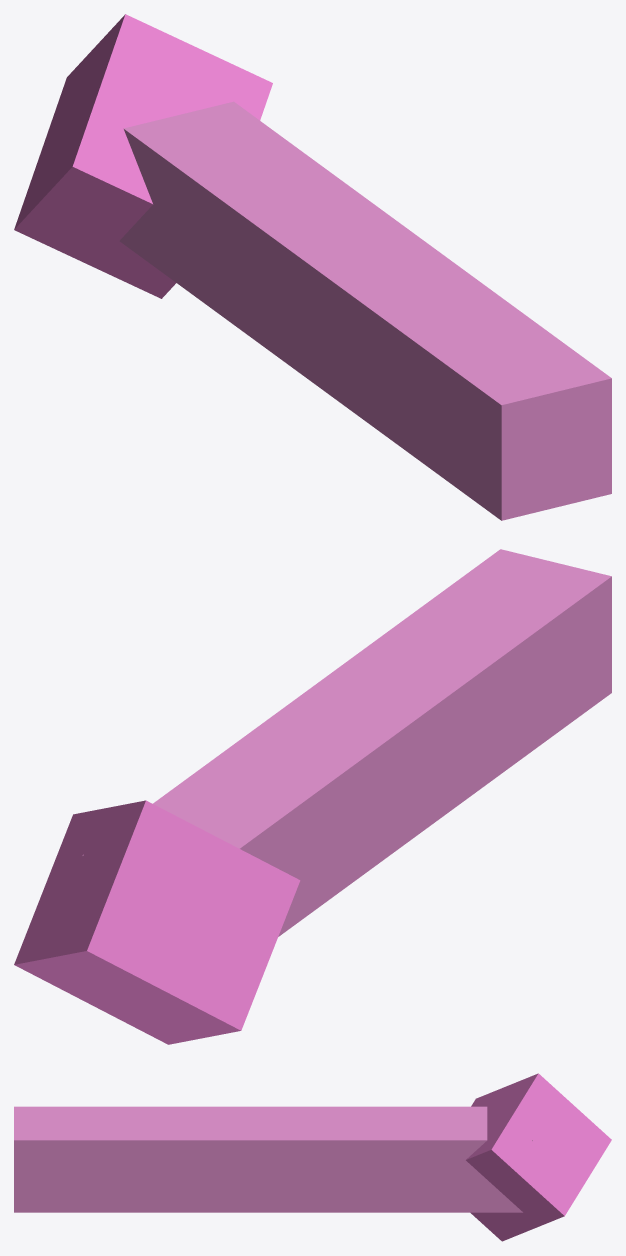
File: Tongue2.fbx
3 views of the same model, one above another, from view 1: azimuth 30°, elevation 25°; view 2: azimuth 150°, elevation 25°; view 3: azimuth 270°, elevation 25° (orthographic). The views are drawn at different scales.
Parts seen in each view (by area): view 1: cube_1, cube; view 2: cube_1, cube; view 3: cube_1, cube.
Boxes of the visible parts, bbox=[...] form: cube_1: bbox=[119, 101, 611, 520]; cube: bbox=[14, 14, 272, 298]; cube_1: bbox=[82, 549, 611, 936]; cube: bbox=[14, 800, 300, 1044]; cube_1: bbox=[14, 1106, 532, 1212]; cube: bbox=[466, 1073, 611, 1241].
Bounding box in the file's own units: 24.1 × 28.69 × 93.61.
Materials: 1 (1 with a texture image).
